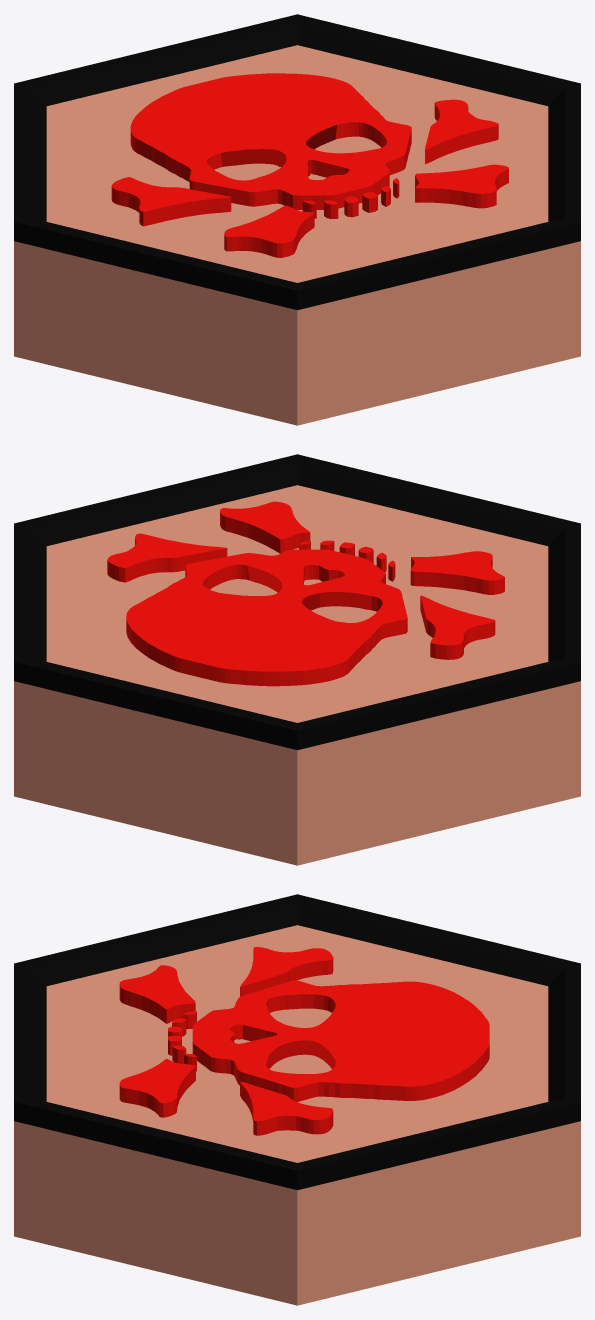
Rendered from bossroom.glb.
3 views of the same model, one above another, from view 1: azimuth 30°, elevation 25°; view 2: azimuth 150°, elevation 25°; view 3: azimuth 270°, elevation 25° (orthographic).
Visible parts, largest first — view 1: Cylinder.003, Plane.001; view 2: Cylinder.003, Plane.001; view 3: Cylinder.003, Plane.001.
Boxes of the visible parts, x1,y1,x2,y2 form: Cylinder.003: (14, 14, 580, 425); Plane.001: (111, 73, 508, 257); Cylinder.003: (14, 454, 580, 865); Plane.001: (107, 501, 504, 686); Cylinder.003: (14, 894, 580, 1305); Plane.001: (119, 947, 489, 1135).
Size of the model in its own units: 2 by 0.4538 by 1.73.
